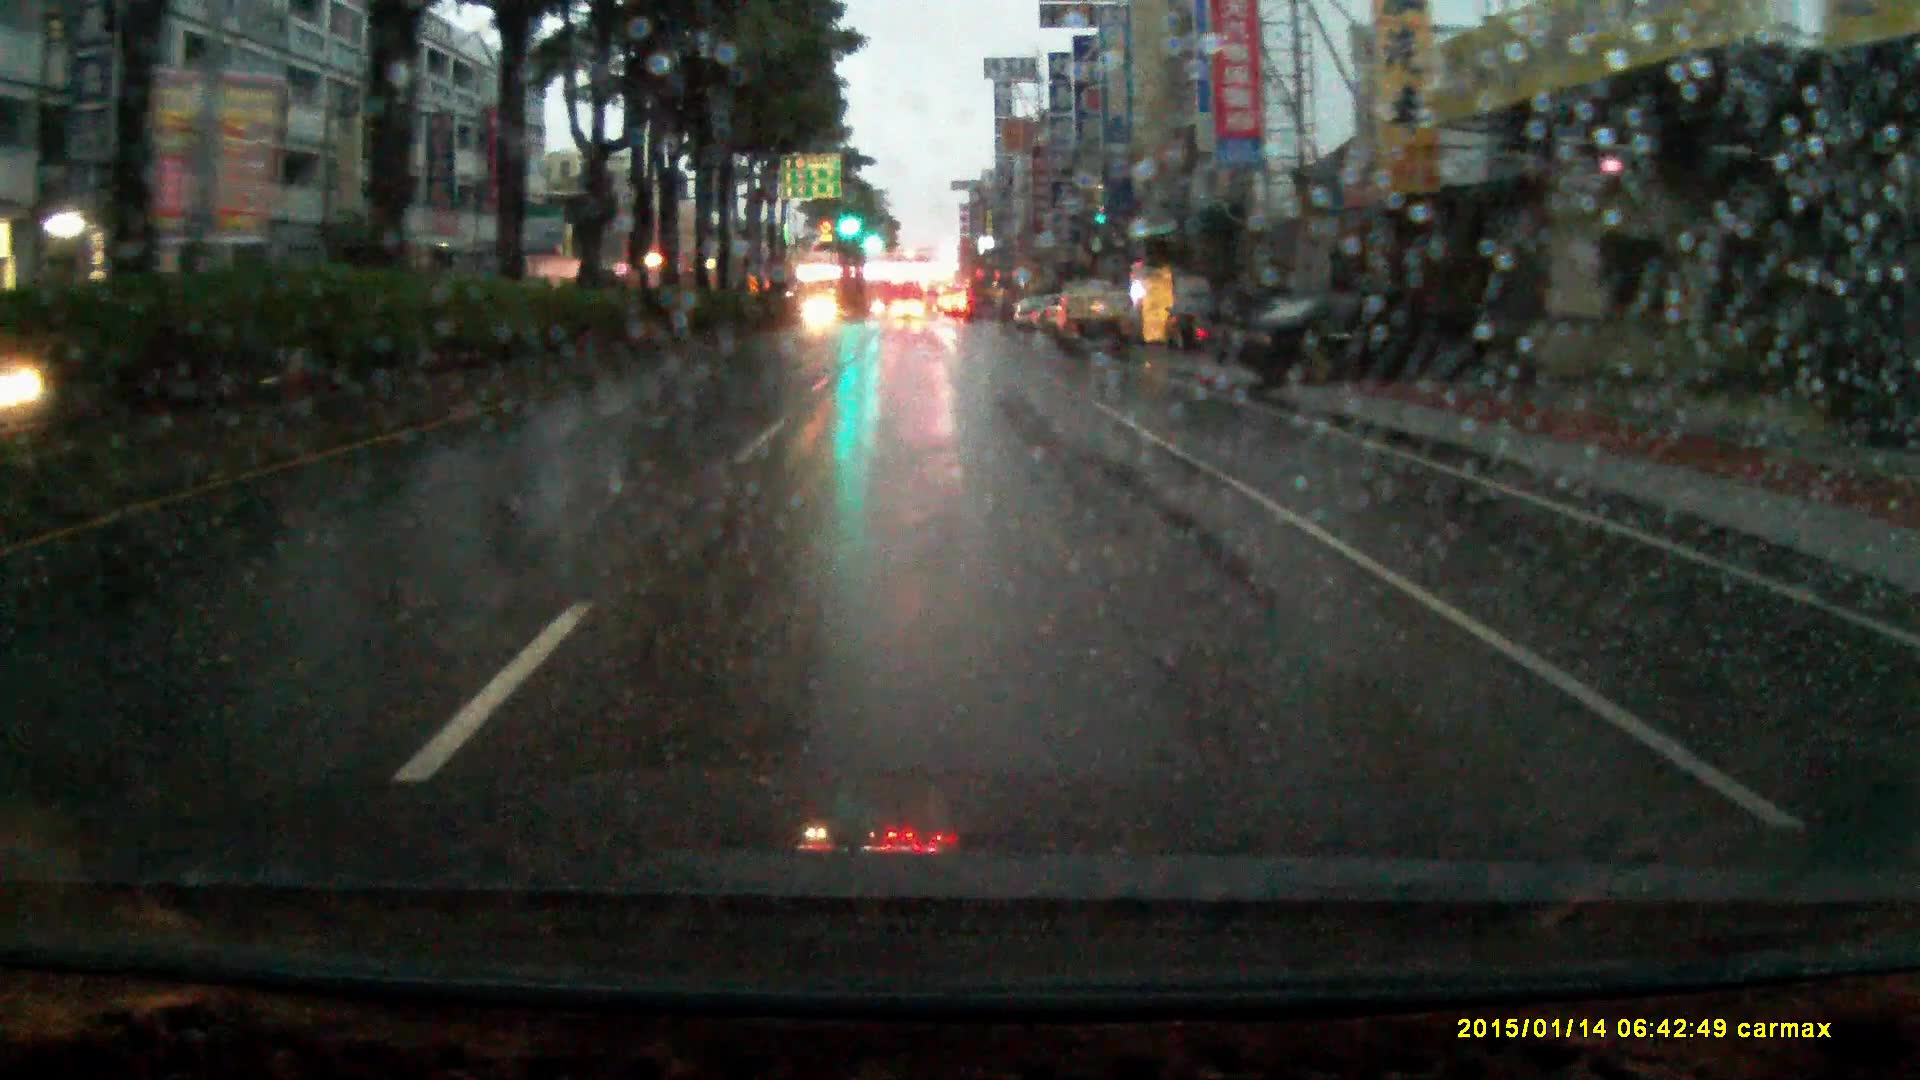vehicle: (1211, 297, 1520, 384), (1056, 281, 1130, 357), (1162, 295, 1245, 360), (800, 297, 843, 335), (890, 301, 927, 324), (924, 282, 945, 319)
